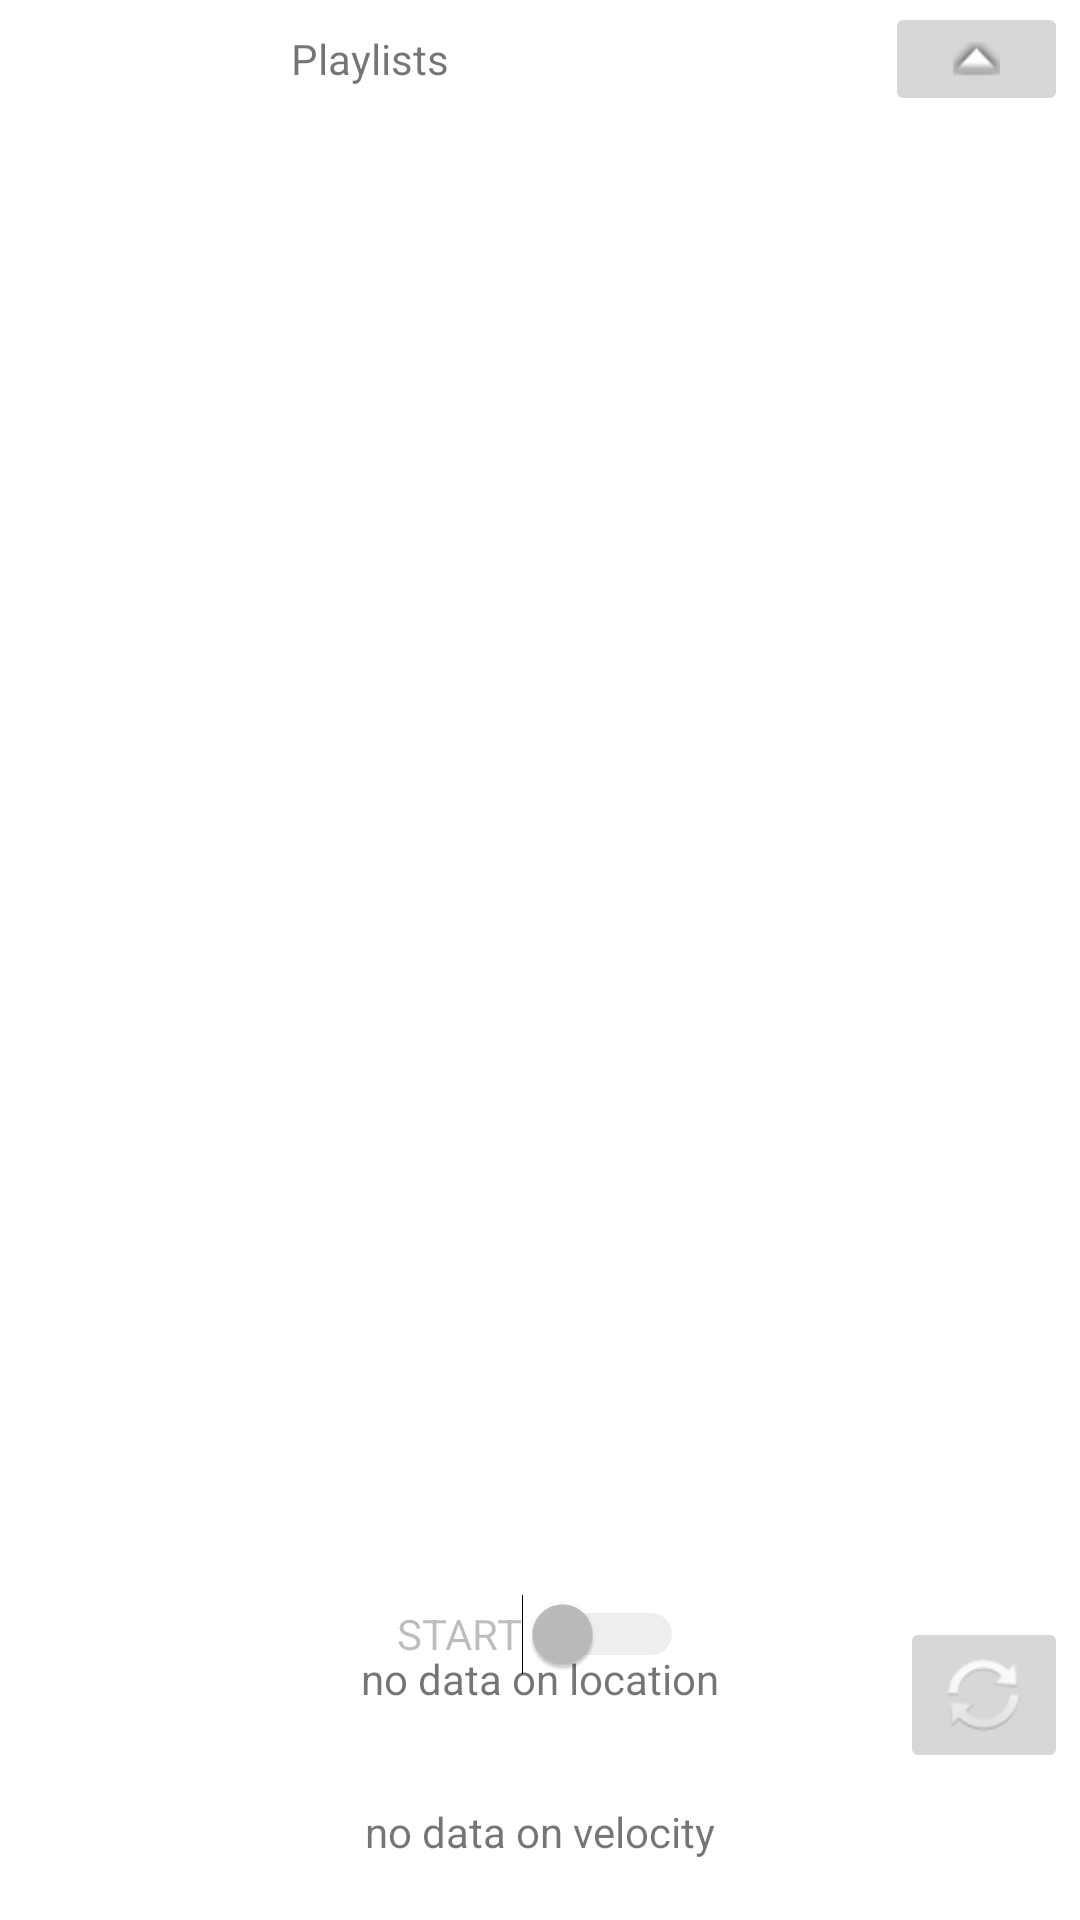

Named icons in this screenshot (1080×1920) and their centers, (x=x, y=y):
arrow up float: (x=976, y=59)
popup sync: (x=984, y=1695)
